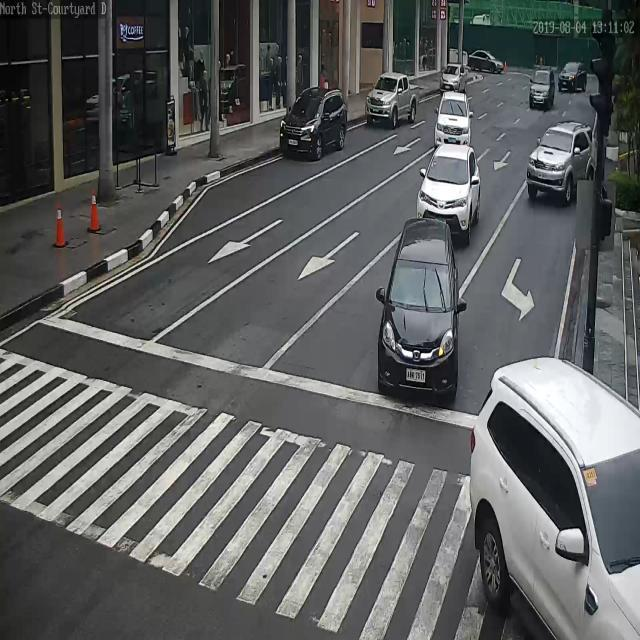car: (470, 357, 640, 640), (380, 217, 461, 398), (417, 143, 480, 240), (525, 119, 593, 203), (280, 86, 350, 161), (364, 74, 418, 128), (434, 88, 472, 147), (529, 68, 558, 107), (560, 61, 589, 92), (468, 51, 505, 74), (440, 63, 466, 94)
